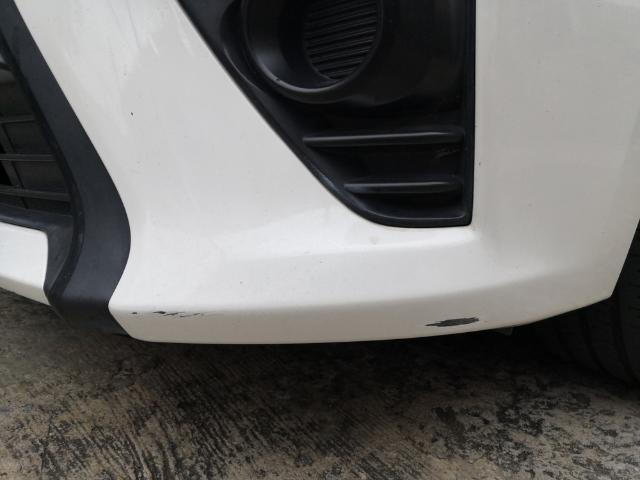scratch: (131, 307, 220, 319), (422, 315, 484, 328)
